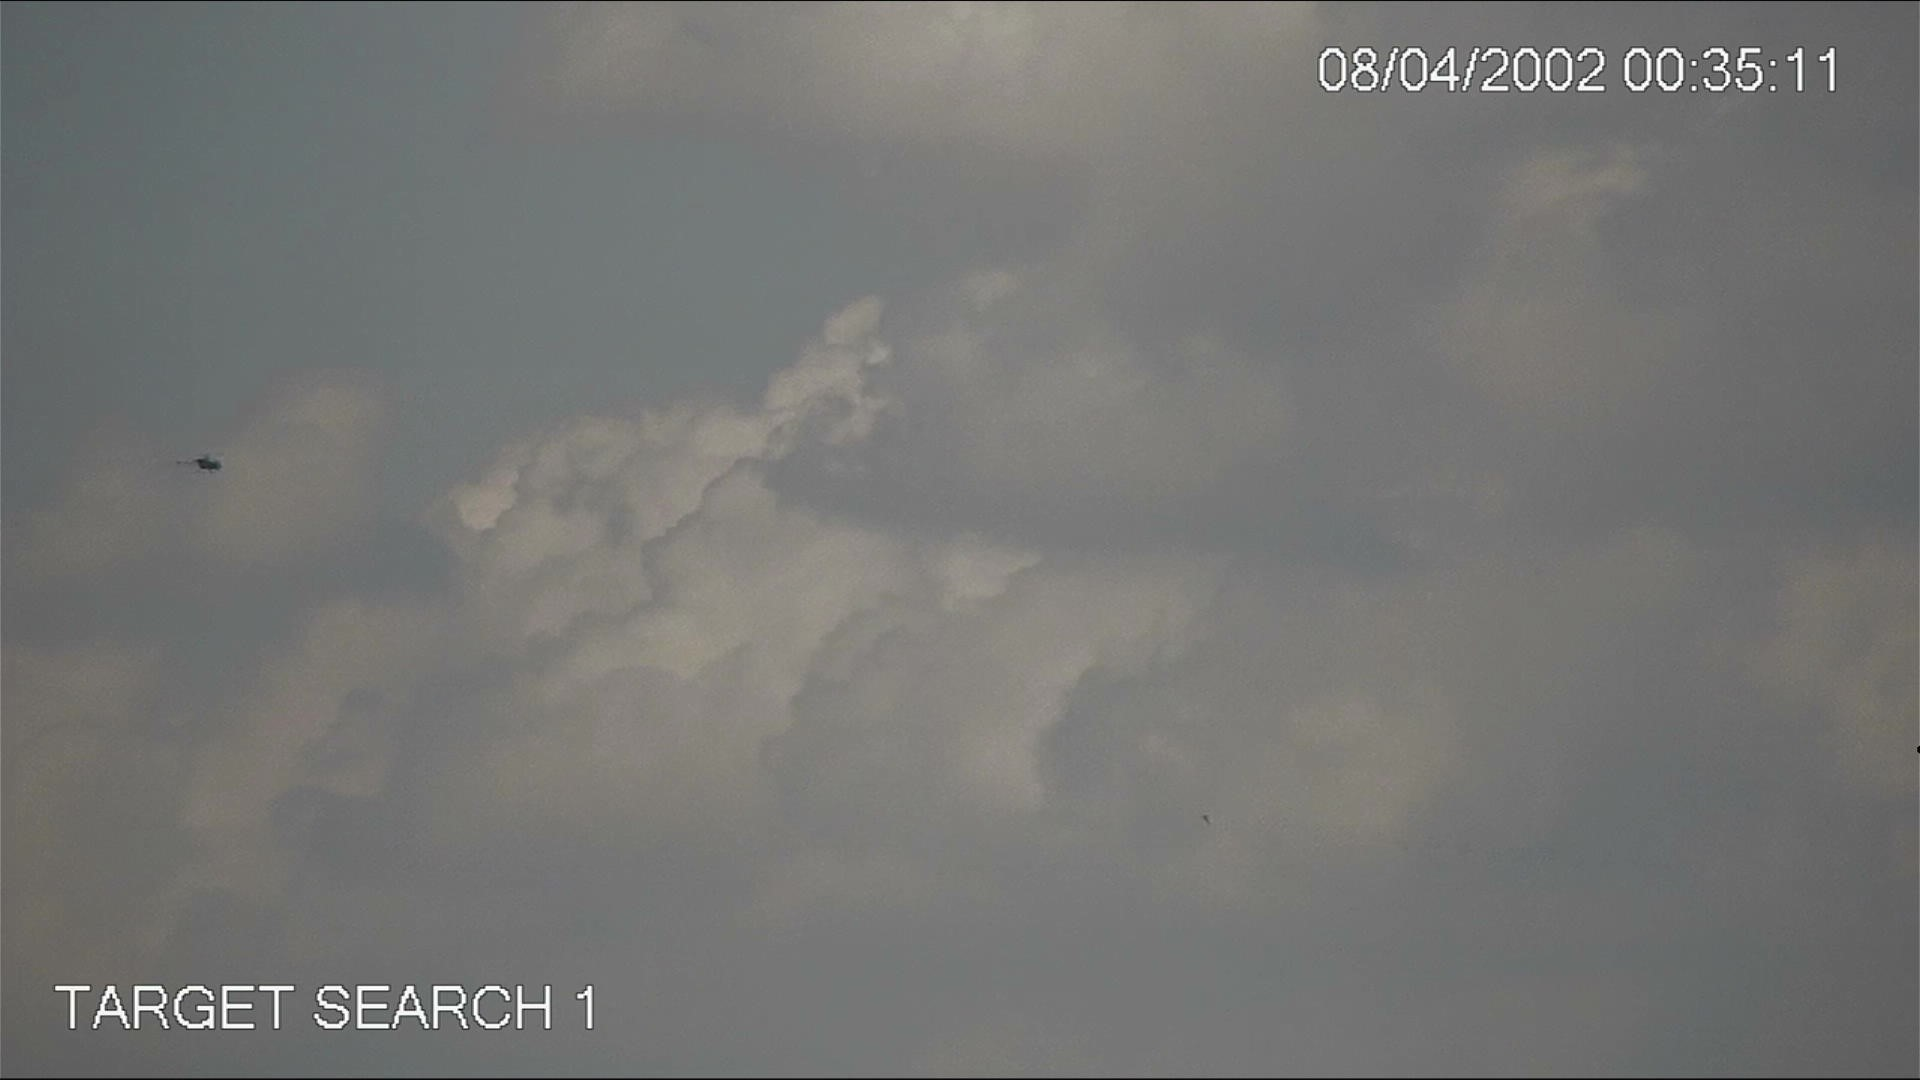SU_30: (170, 451, 224, 477)
